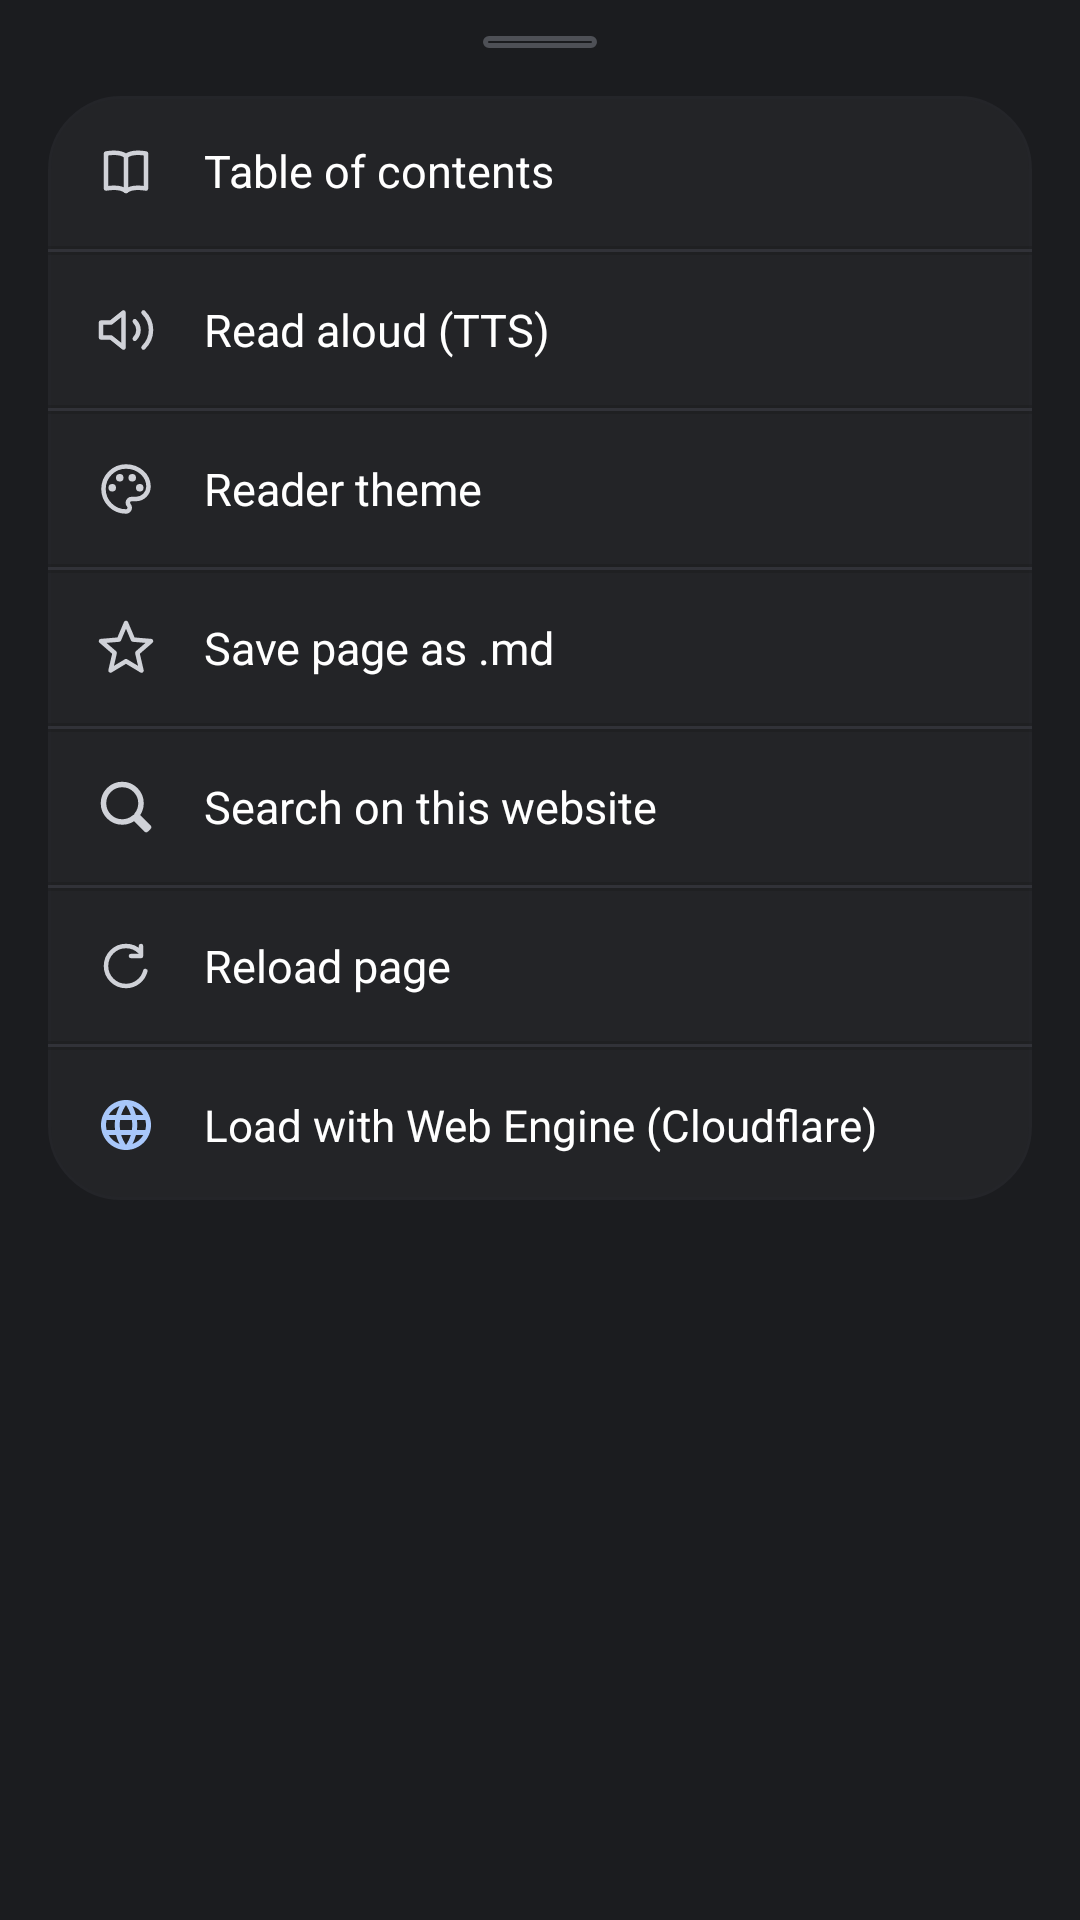

Icon bounding boxes for this 1080*1920 phone screenshot, format (x1, y1, x2, y2):
book reader: (103, 150, 149, 194)
bookmark star: (98, 620, 154, 673)
language web: (101, 1100, 151, 1150)
palette theme: (101, 464, 151, 514)
tts speaker: (98, 310, 154, 350)
